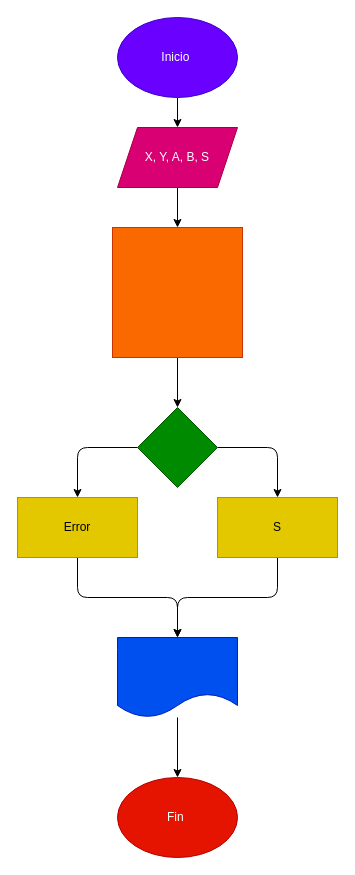
Some shapes in this 355 by 875 pixel diagram are drawn without their labels. The centre of each missing label's shape, as x and y in pixels:
S <= 9: [177,447]
S = Numero de 1 digito: [177,677]
Y - X % 100 A = Y > 10 A = TRUNC (Y/10) B = Y % 10 S = (A + B): [177,292]
